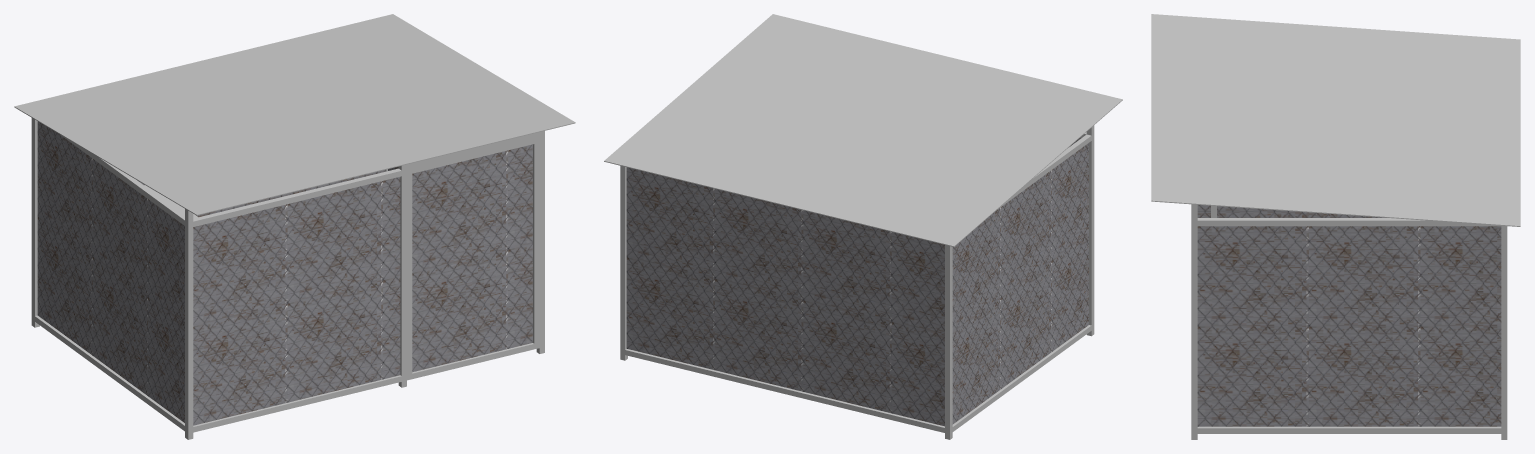
File: Awning01_1.FBX
The picture shows the model from 3 angles, left to right: view 1: azimuth 30°, elevation 25°; view 2: azimuth 150°, elevation 25°; view 3: azimuth 270°, elevation 25°; orthographic projection. The views are drawn at different scales.
Visible parts, largest first — view 1: MetalBox, Door; view 2: MetalBox; view 3: MetalBox.
Part boxes in pixels (left/top/right/bottom): MetalBox: left=14, top=14, right=575, bottom=439; Door: left=407, top=137, right=539, bottom=380; MetalBox: left=604, top=14, right=1122, bottom=439; MetalBox: left=1151, top=14, right=1520, bottom=439.
Size of the model in its own units: 535 by 327 by 447.
